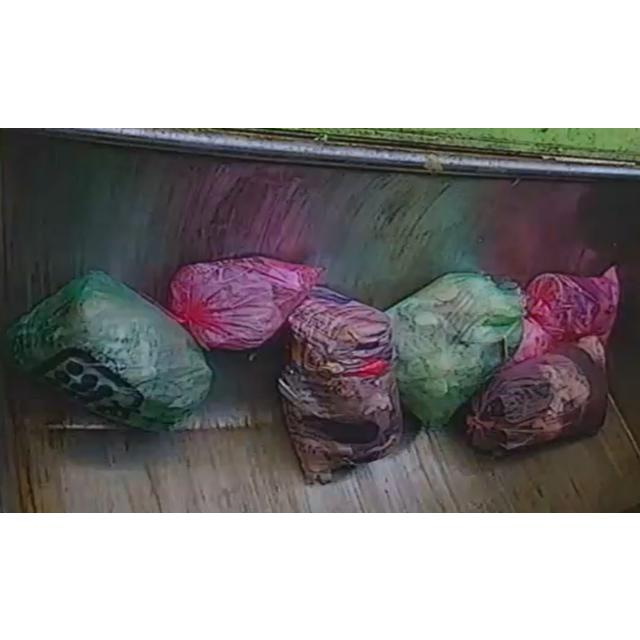other_trashbag: (278, 286, 402, 482), (468, 334, 608, 450), (168, 254, 323, 349), (525, 266, 620, 341)
